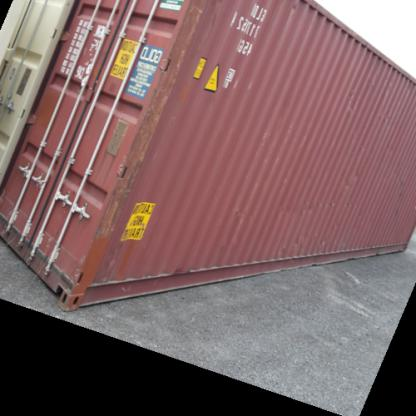Damage: (107, 42, 187, 223)
